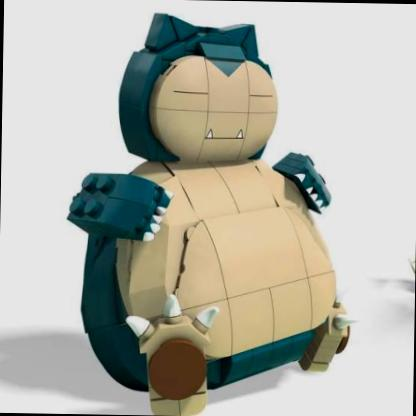Relaxo: (19, 0, 415, 406)
